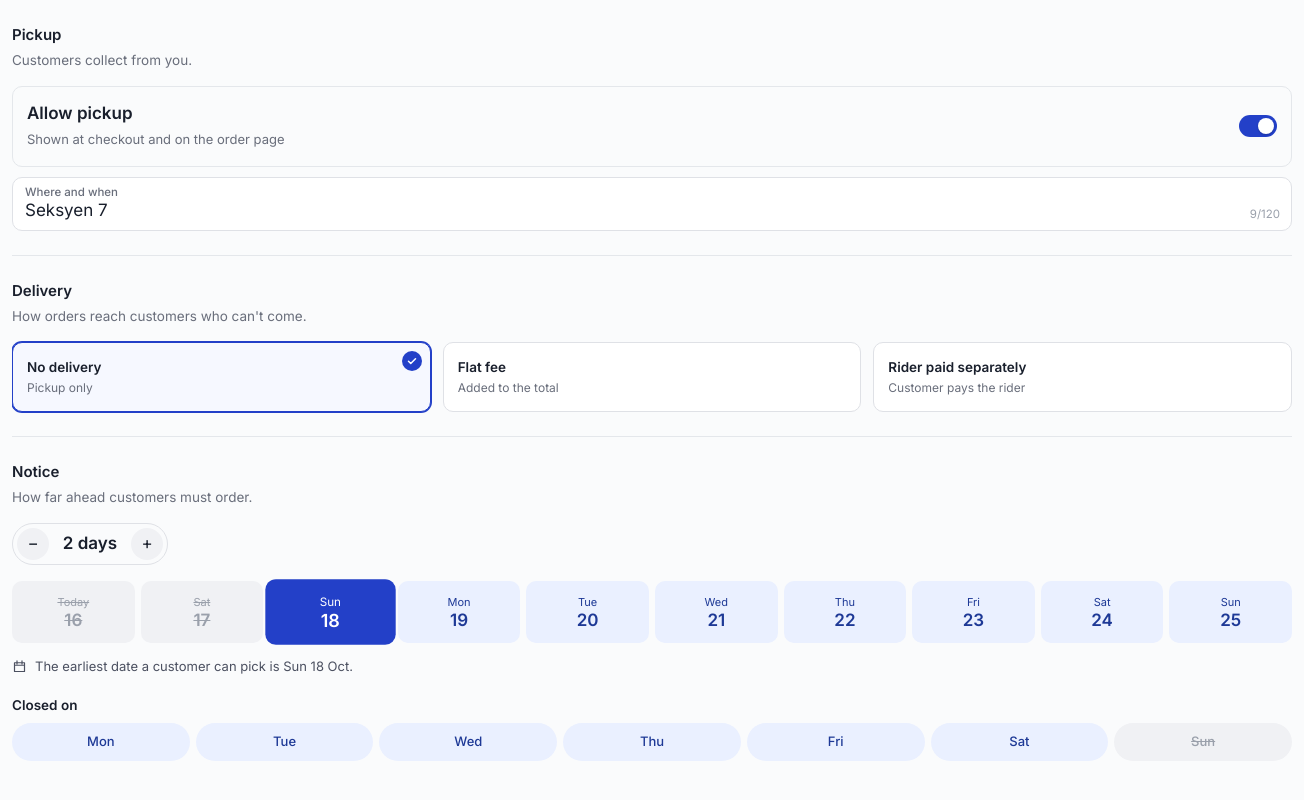
it: DeliveryTab, pickup › puts the switch back, with the reason, when that would leave an open shop no way to hand over
Click the switch named "Allow pickup" at (1258, 126), box [1239, 115, 1277, 137]
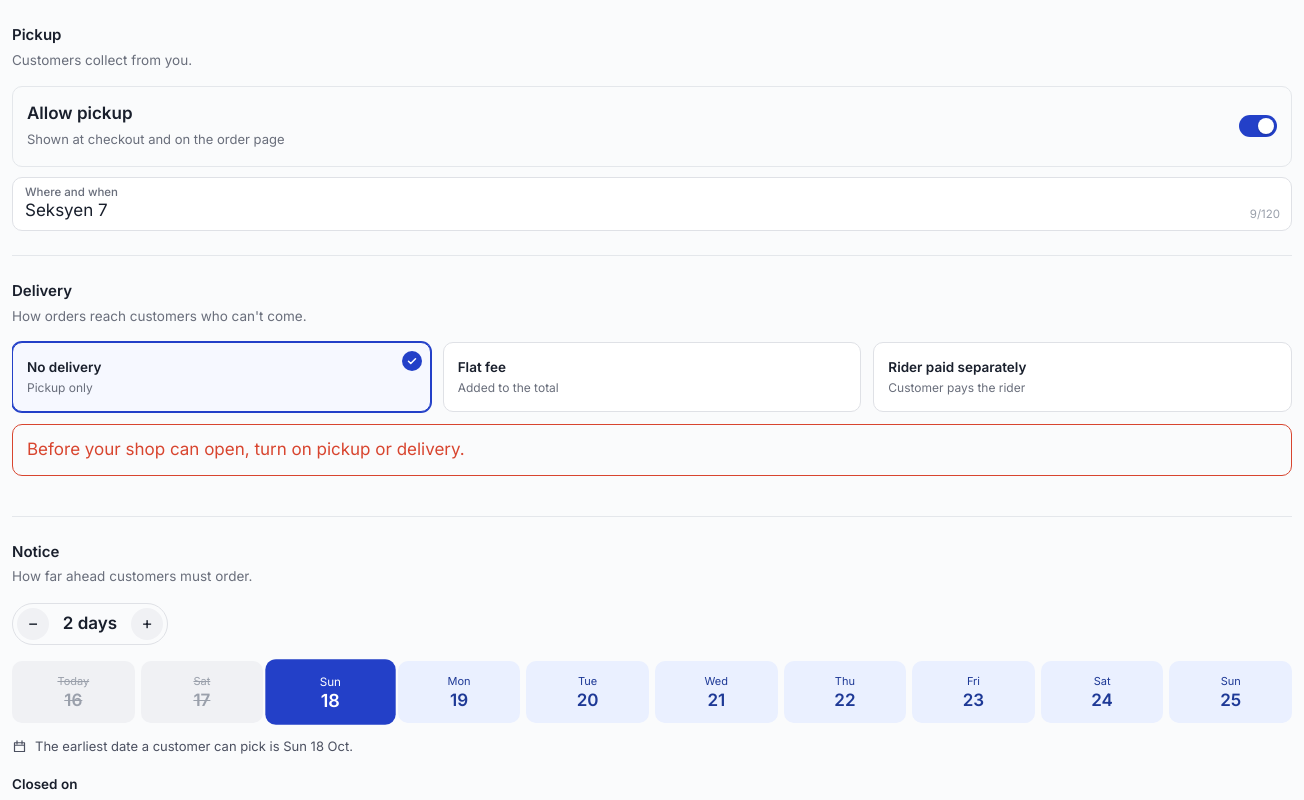
Expected: the message shows "turn on pickup or delivery", [27, 439, 465, 459]
